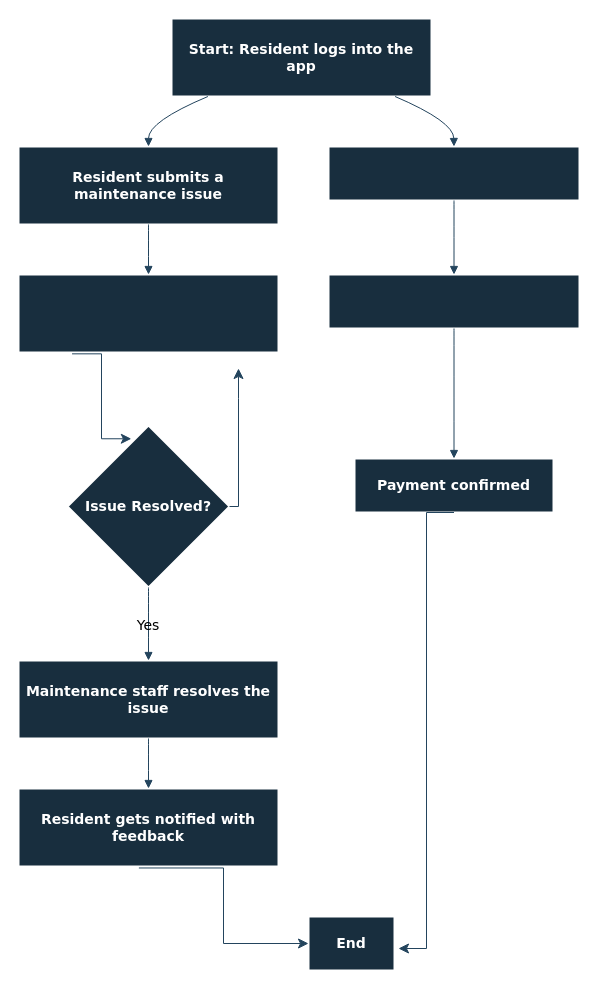
Some shapes in this 597 by 988 pixel diagram are drawn without their labels. The shapes that lost their labels are listed below. From the top down, each one's box as (x1, y1, x2, y2) in pixels, then its label:
(327, 145, 580, 201): Resident makes a payment
(17, 273, 279, 353): Admin reviews and assigns the issue
(327, 273, 580, 329): System processes payment
